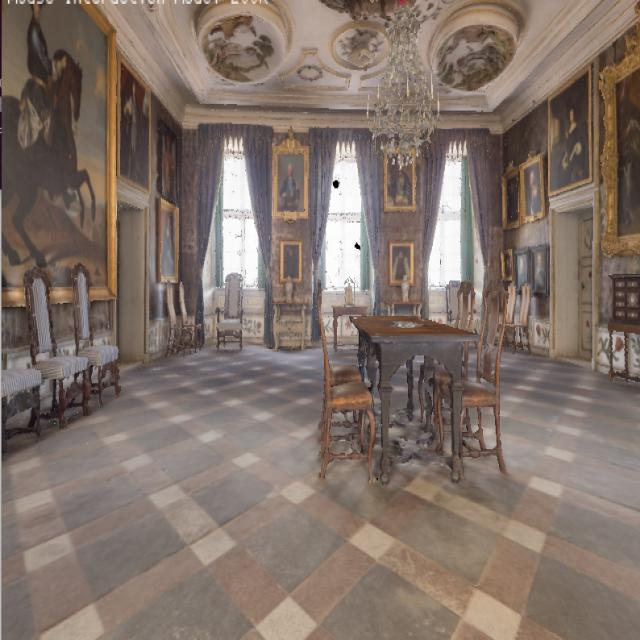chair: (440, 277, 527, 488), (310, 288, 376, 505), (16, 243, 91, 421), (72, 245, 125, 402), (168, 262, 205, 368), (211, 258, 243, 361)
table: (343, 298, 479, 488)
